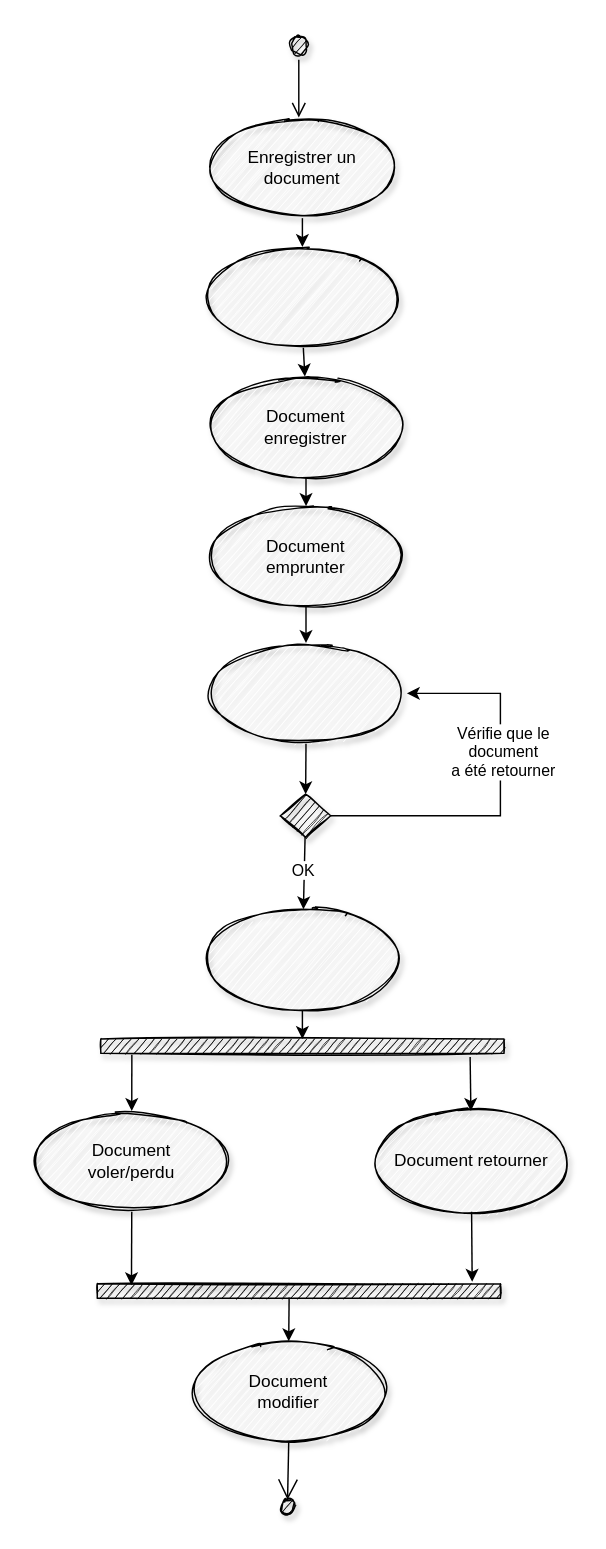
Image size: 606x1549. Some labels were removed from this diagram. The shapes that lost their labels are listed below. From the top down, each one's centre as x and y in pixels, then its label:
At (x=303, y=299): "Génère un numéro unique".
At (x=306, y=695): "Retour".
At (x=303, y=961): "État du document".
